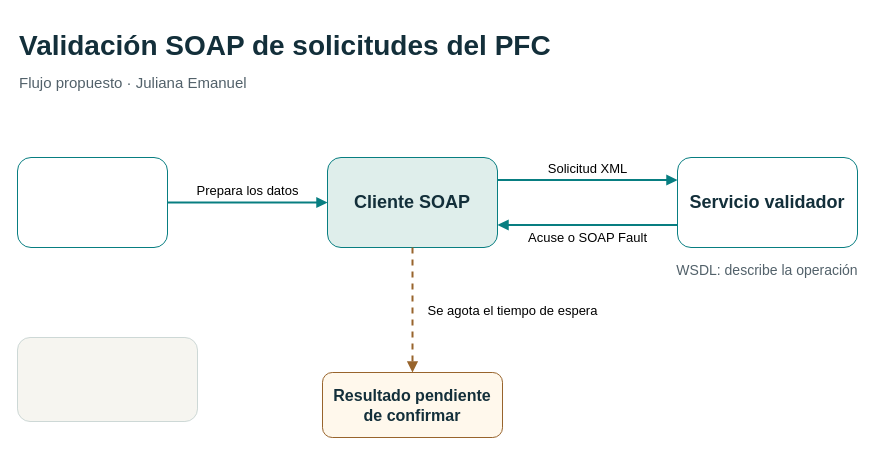
Some shapes in this 890 by 455 pixel diagram are drawn without their labels. Here are the shapes that lost their labels. From the top down, the centre of each, then its label:
At point (92, 202): "PFC".
At point (107, 379): "Datos de ejemplo ID: 123 Campo: estado".
